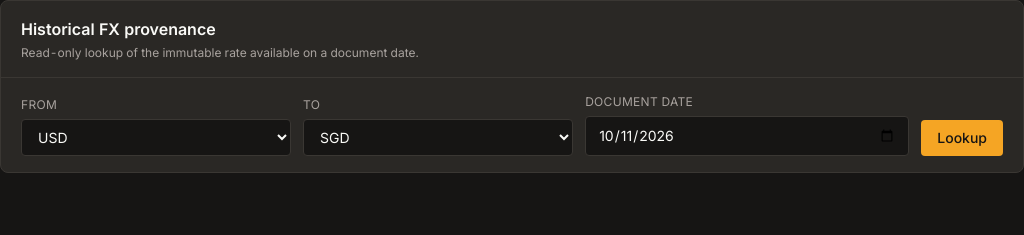
Test: FxRatesInspectorComponent › shows the missing historical rate error without stale provenance
Select "USD" in the dropdown with id "fx-from-currency" at (156, 138), box [21,119,291,156]
Select "SGD" in the dropdown with id "fx-to-currency" at (438, 138), box [303,119,573,156]
Type "2026-05-01" into the date field with id "fx-rate-date".
click(747, 136); type("2026-05-01")  # box [585,116,909,156]
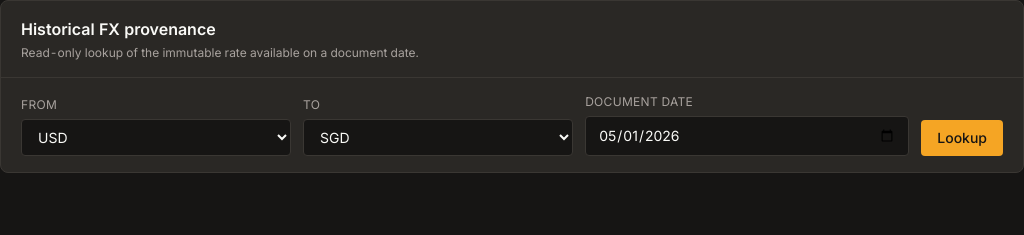
Click the button "Lookup".
click(962, 138)  # box [921,120,1003,156]
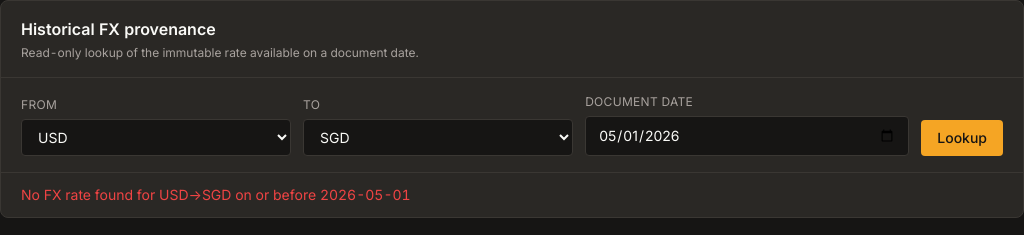
Check: the message "No FX rate found for USD→SGD on or before 2026-05-01" is shown, box [1,172,1023,217]
